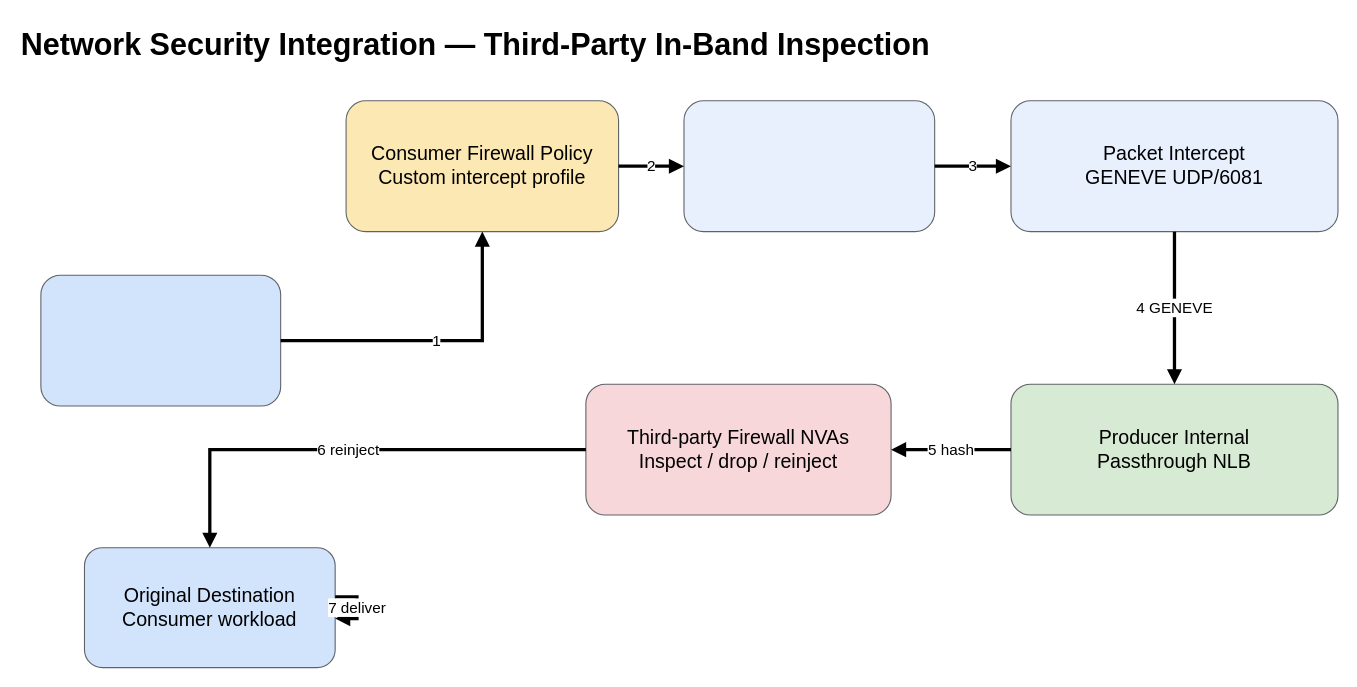
The diagram is 1357 pixels wide and 687 high, and some of its shapes have lost their labels. The shapes that lost their labels are listed below. From the top down, each one's box as (x1, y1, x2, y2) in pixels, then its label:
(683, 100, 935, 232): NSI Endpoint Group Consumer side
(40, 274, 281, 406): Consumer VM / Flow 10.10.1.10 → 10.20.1.20
